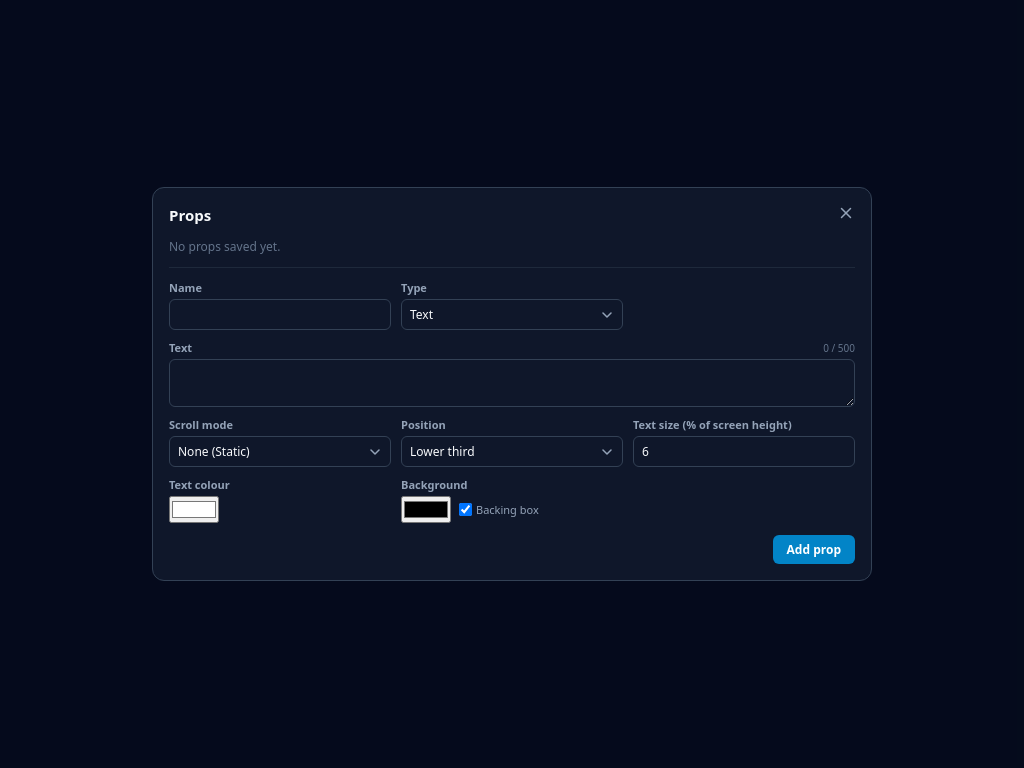
PropsManagerModal › shows validation problems instead of saving
Click the button with test id "prop-save" at x=814, y=550, box [773,535,855,564]
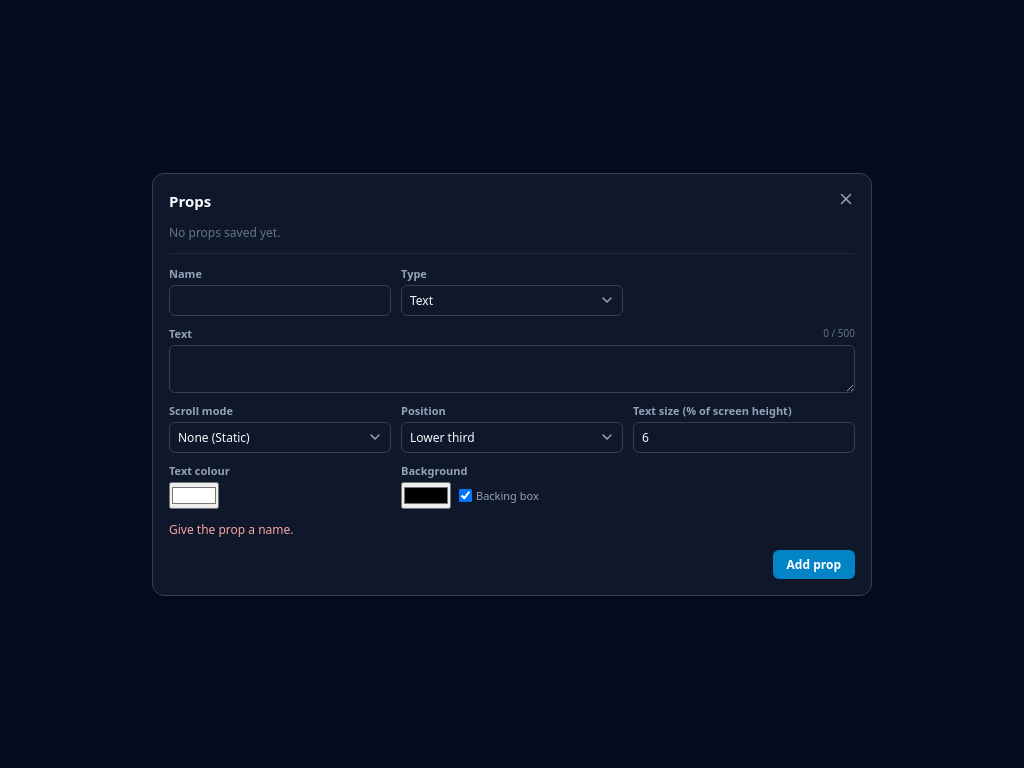
Expected: the message with test id "props-error" shows "name", [169,520,294,538]
Type "X" into the field with test id "prop-name" at x=280, y=300, box [169,284,391,316]
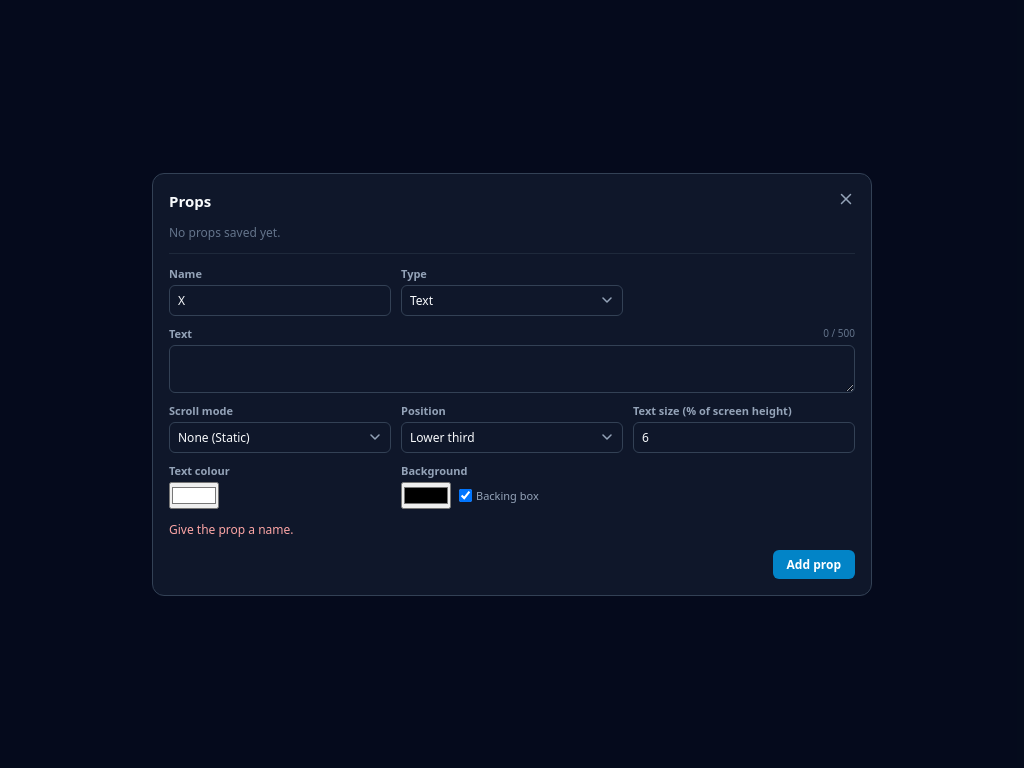
Click the button with test id "prop-save" at x=814, y=564, box [773,550,855,578]
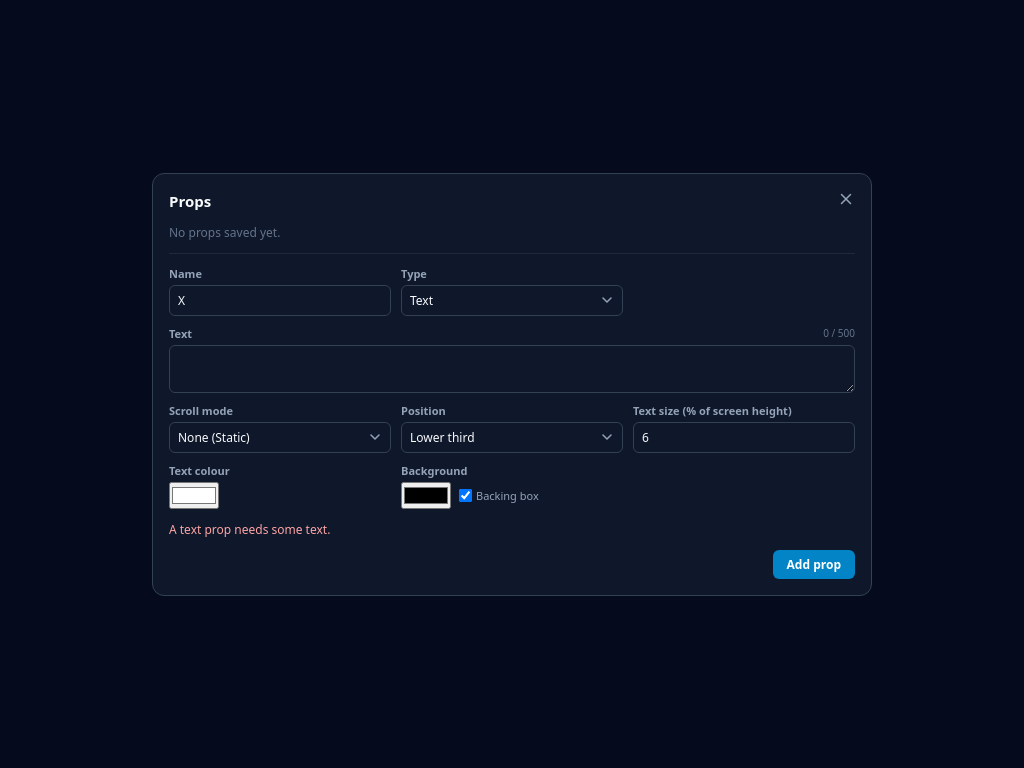
Expected: the message with test id "props-error" shows "needs some text", [169,520,330,538]
Select "Image" in the dropdown with test id "prop-kind" at x=512, y=300, box [401,284,623,316]
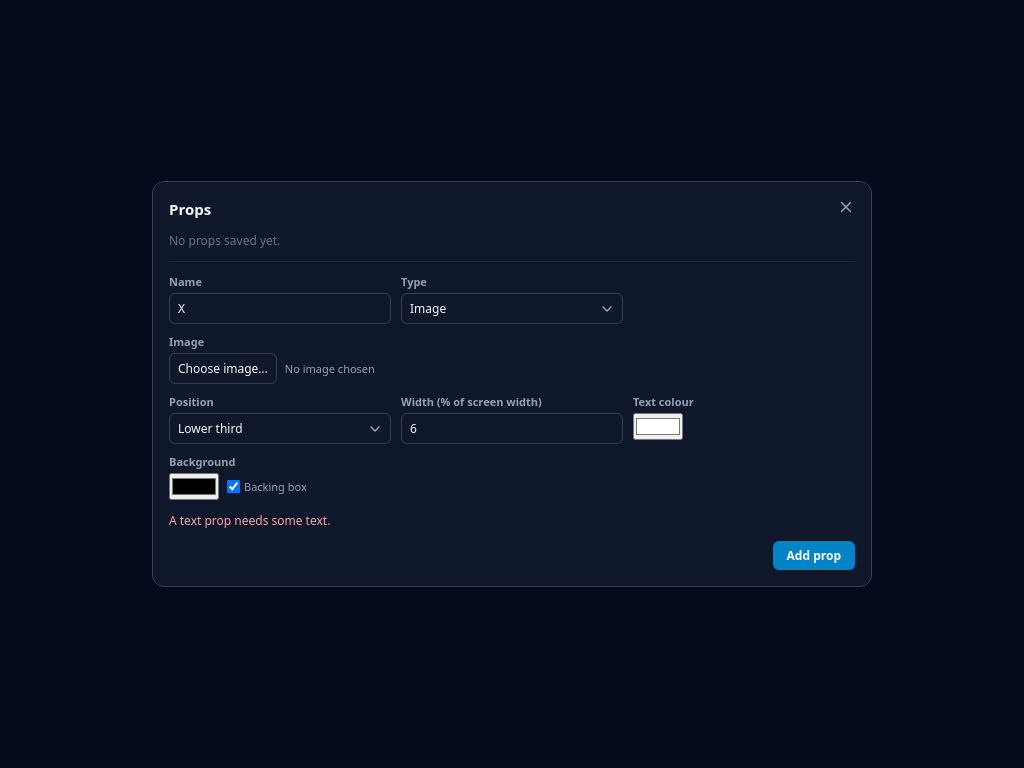
Click the button with test id "prop-save" at x=814, y=556, box [773,541,855,570]
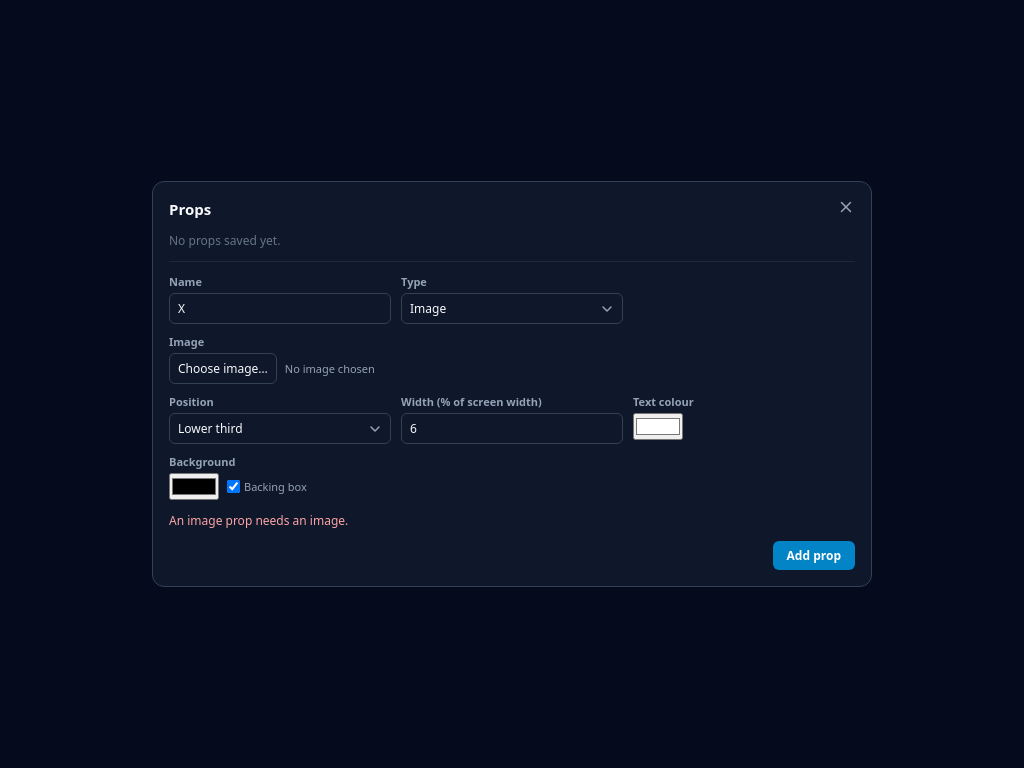
Expected: the message with test id "props-error" shows "needs an image", [169,512,348,529]
